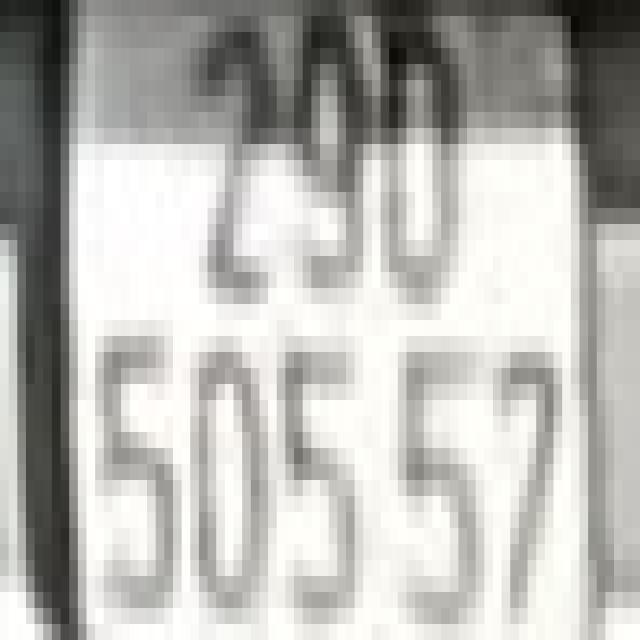0: (190, 336, 268, 608)
2: (190, 16, 294, 304)
5: (398, 336, 484, 624), (276, 336, 364, 608), (95, 336, 182, 608)
7: (493, 352, 562, 624)
9: (294, 0, 372, 288)
D: (380, 16, 468, 304)
